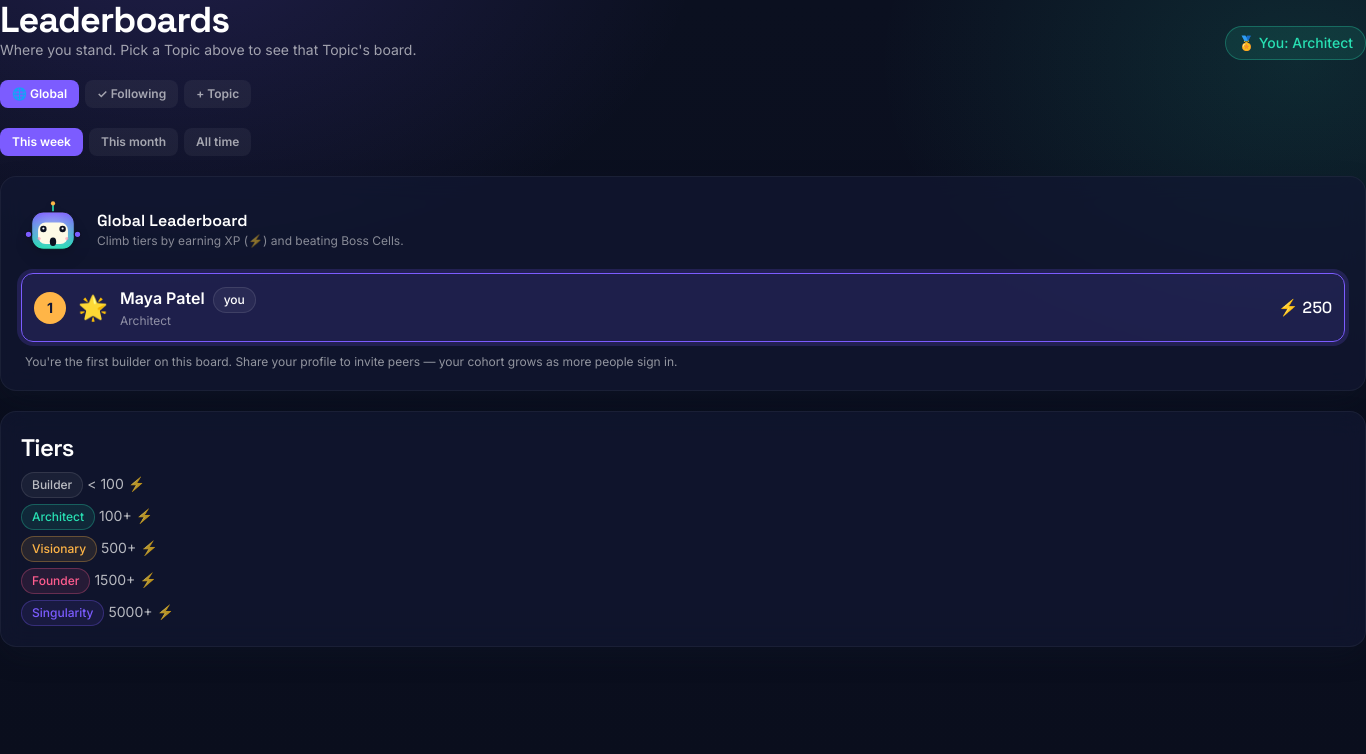
Test: Leaderboards (Boards) view › clicking + Topic reveals the picker with all 12 Topics
Click the button "+ Topic": (218, 94) [184,80,251,108]
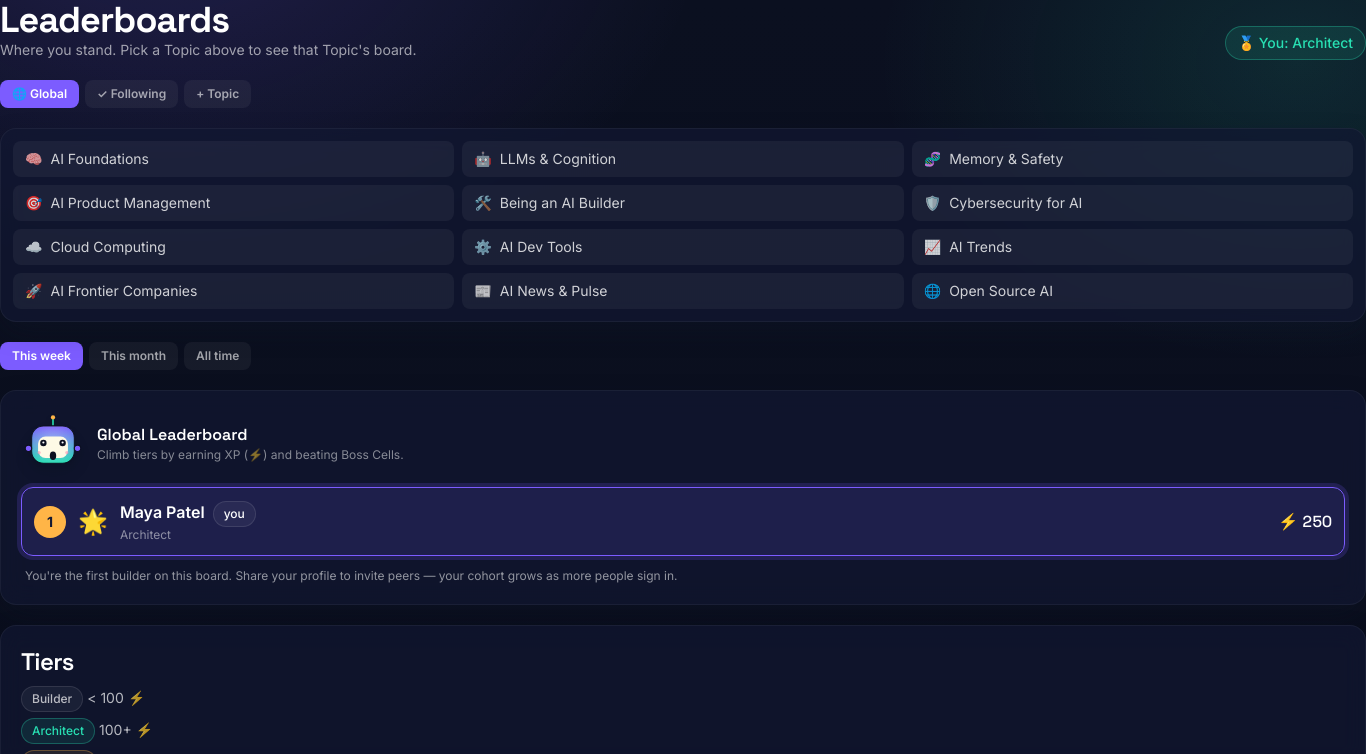
Expected: the button "🎯 AI Product Management" is shown, [13,185,454,221]
Expected: the button "🧬 Memory & Safety" is shown, [912,141,1353,177]
